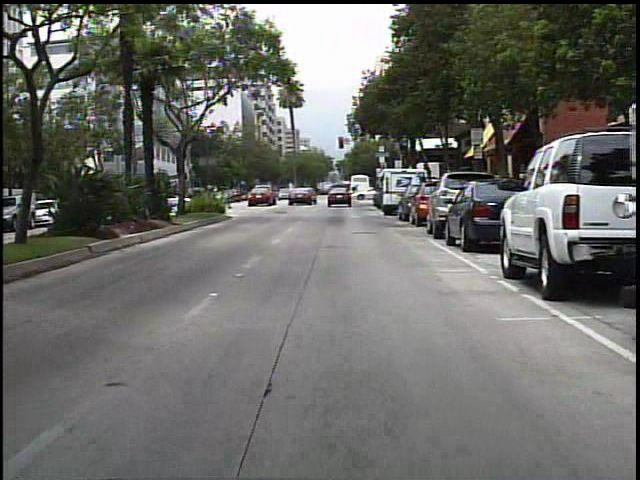person: (347, 181, 363, 202), (302, 184, 315, 205)
